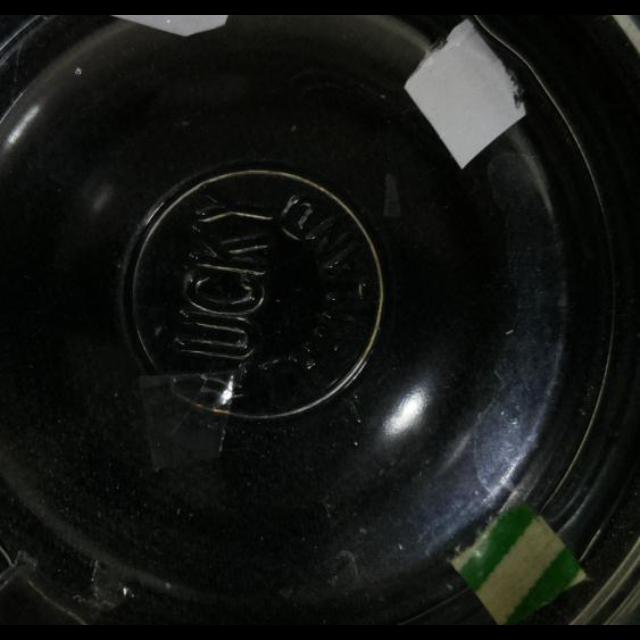Film: (0, 540, 134, 626), (138, 369, 235, 468)
Fragment: (453, 486, 592, 626), (399, 21, 527, 172), (115, 15, 233, 41)
